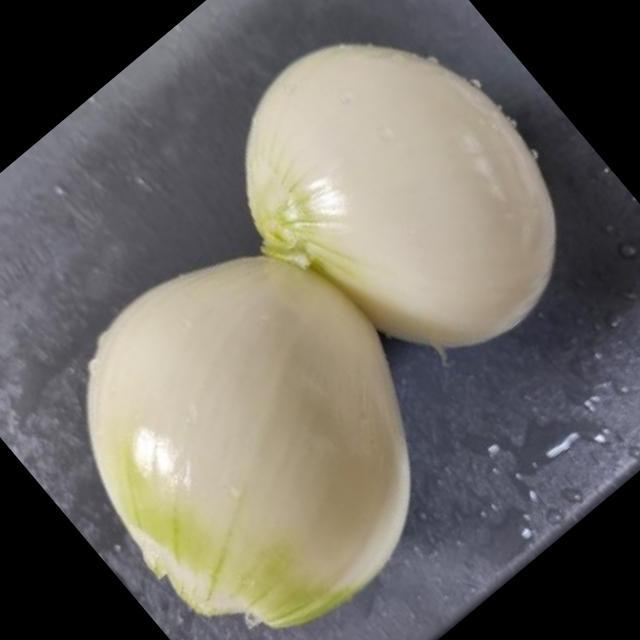Onion: (84, 260, 414, 628), (241, 45, 560, 345)
